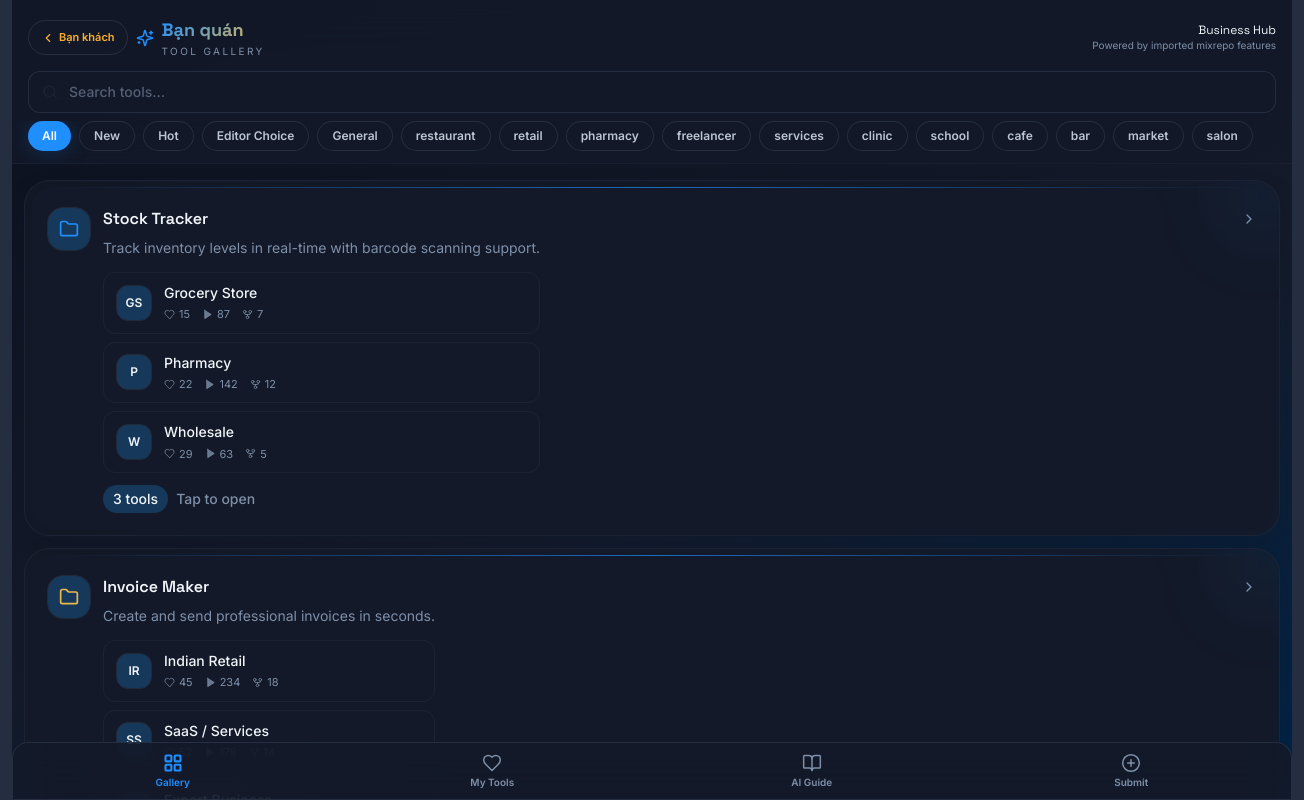
Test: Dual Hub landing flow › filters the business apps by category and search
This screenshot has width=1304, height=800.
expect the field with placeholder "Search tools..." is shown: met, box [28,71,1276,113]
Click the button "retail": [528, 136] box [498,121,558,151]
(page scrolled)
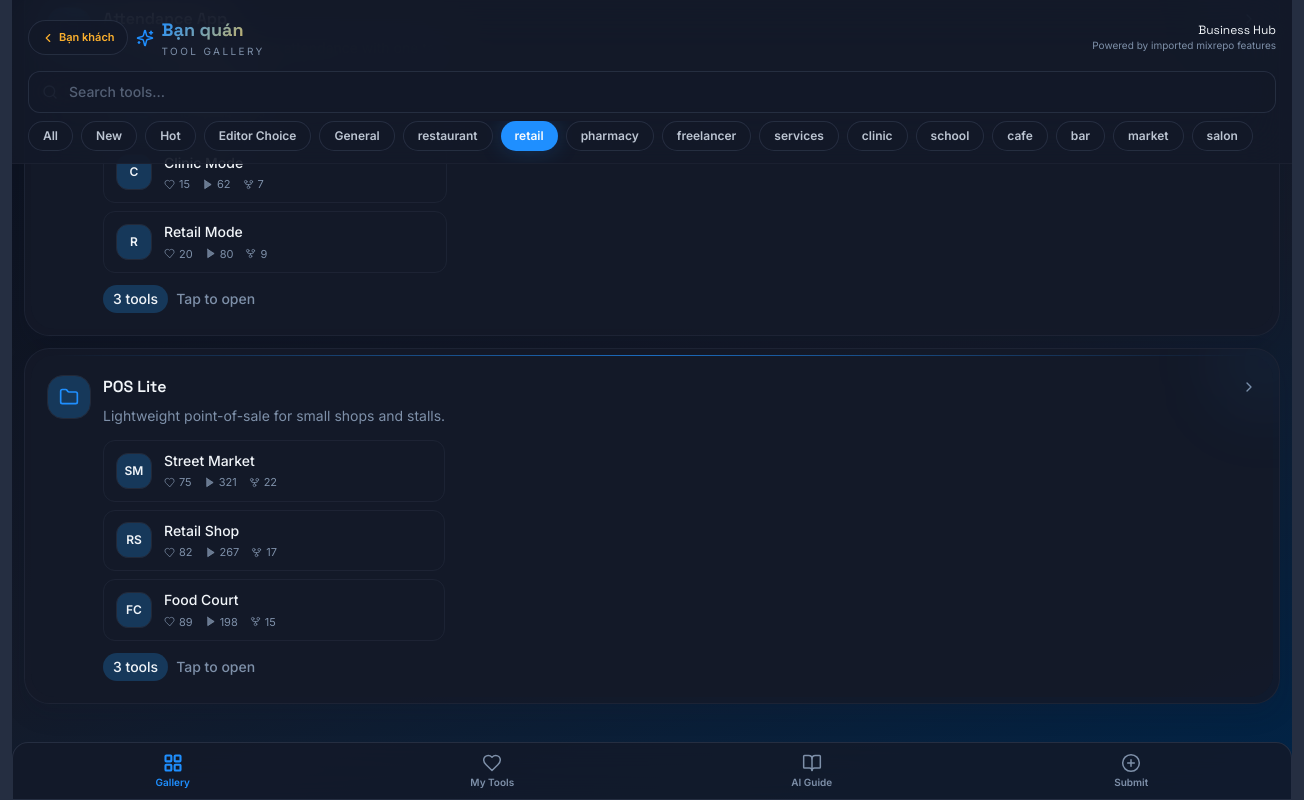
Click the button "POS Lite": [81, 369] box [31,355,1273,697]
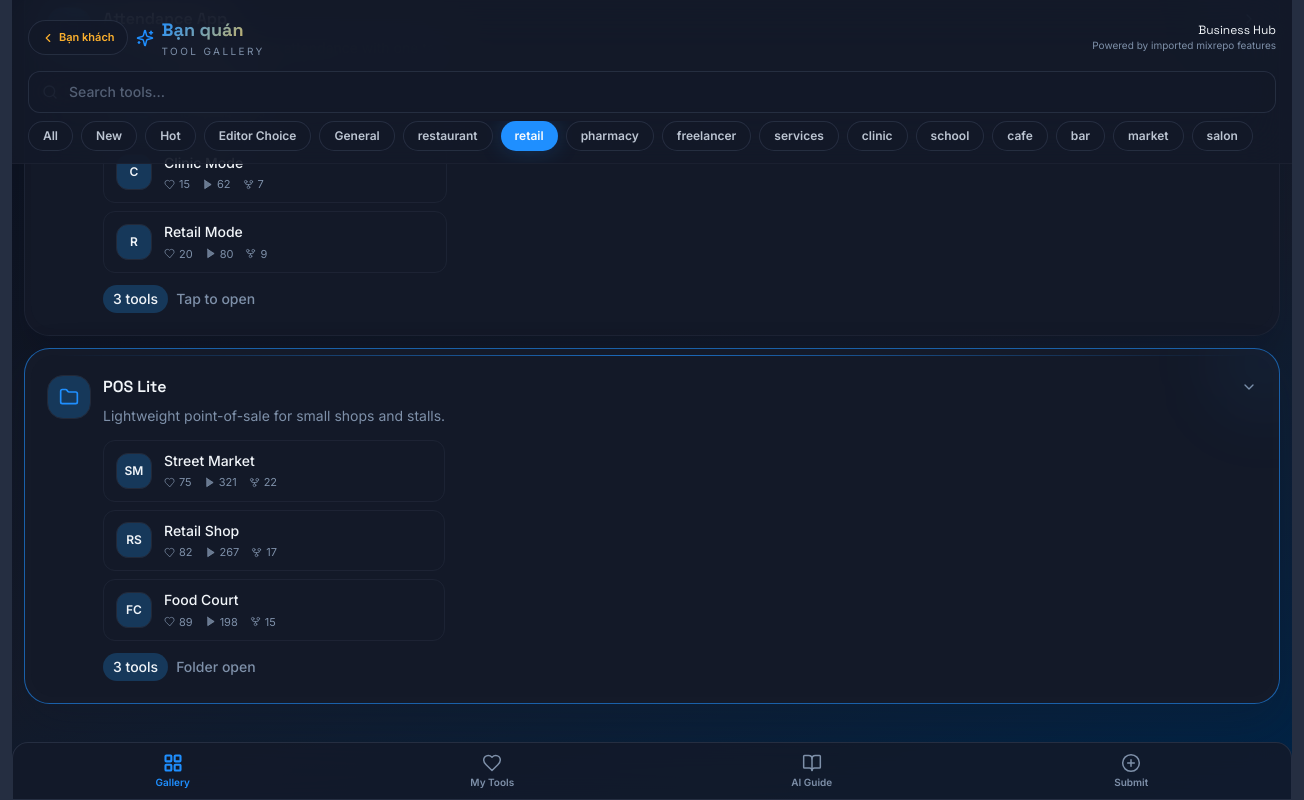
In the field with placeholder "Search tools...": [652, 92] box [28,71,1276,113], type "food court"
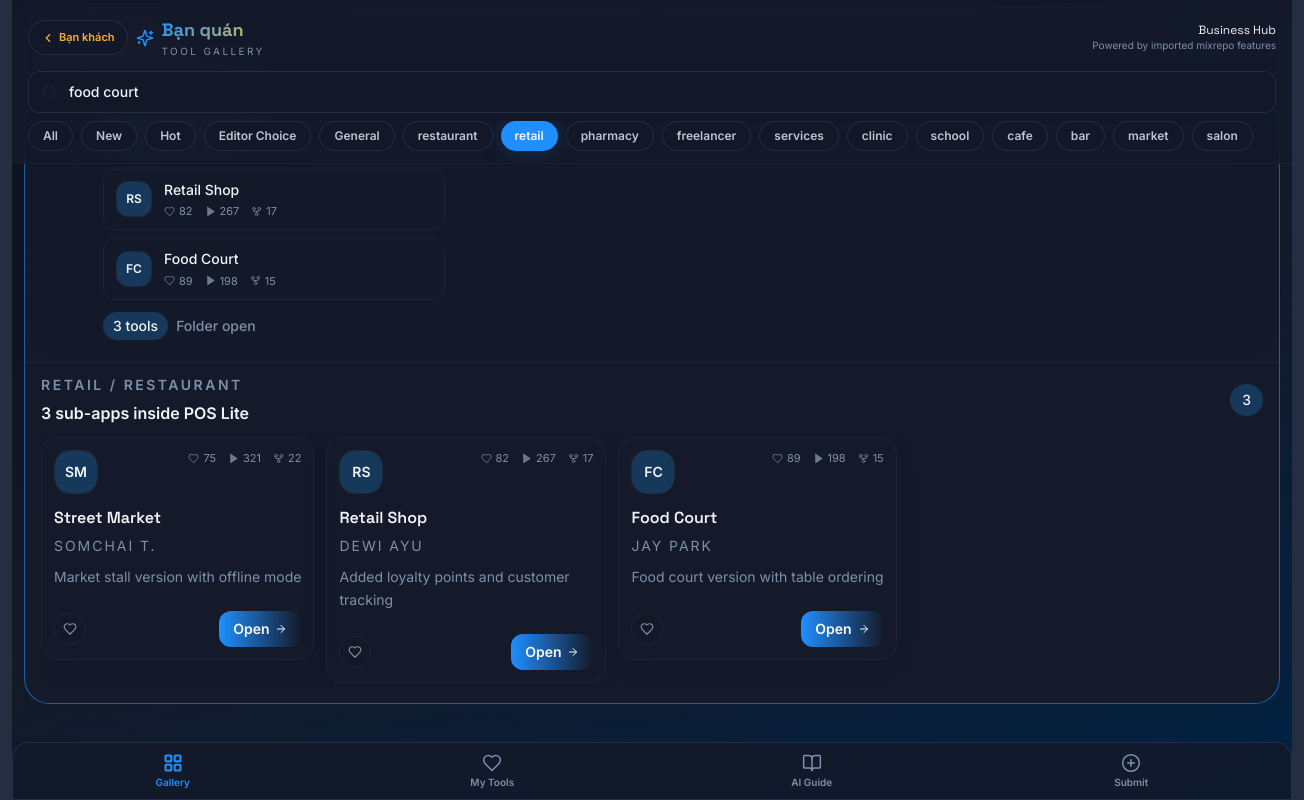
expect the button "Invoice Maker" is not shown: met
expect the button "POS Lite" is shown: met, box [31,14,1273,356]
expect the 2nd text "Food Court" is shown: met, box [632,507,717,528]
